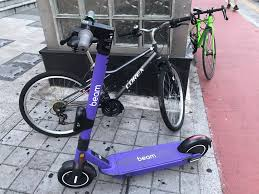kick_board: (57, 9, 211, 188)
kick_handler: (60, 10, 115, 56)
kick_wheel: (59, 159, 96, 187), (182, 135, 211, 161)
